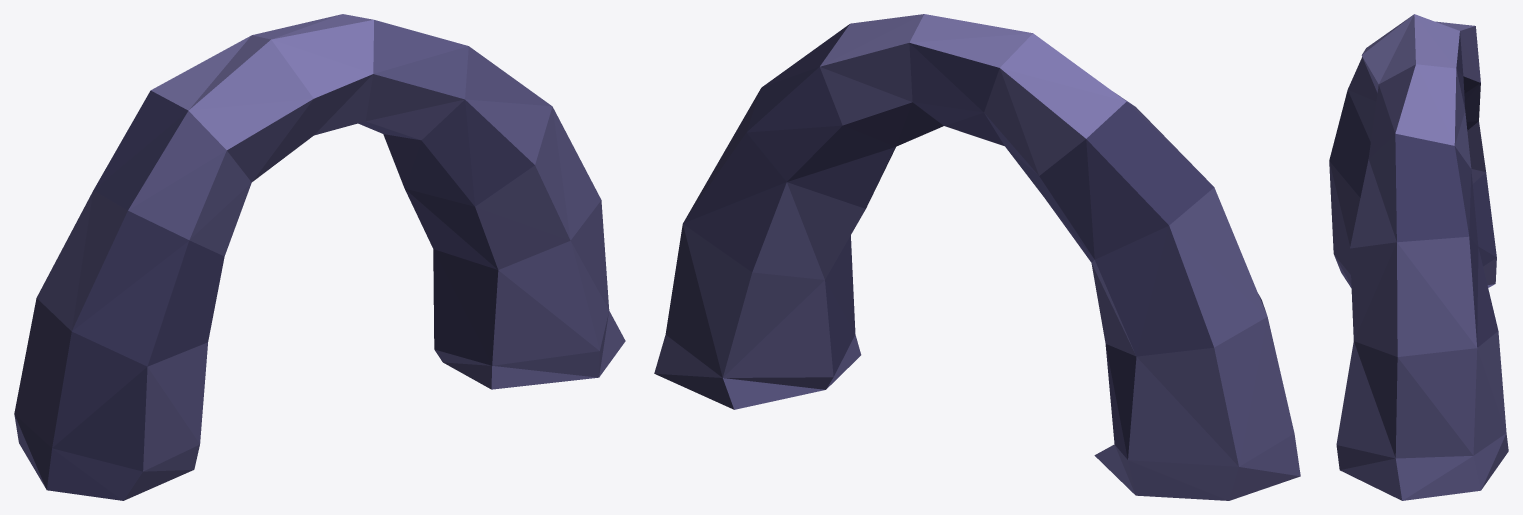
File: rock_arch_deep.fbx
3 views of the same model, side by side, from view 1: azimuth 30°, elevation 25°; view 2: azimuth 150°, elevation 25°; view 3: azimuth 270°, elevation 25° (orthographic). The views are drawn at different scales.
Parts seen in each view (by area): view 1: rock_arch_deep; view 2: rock_arch_deep; view 3: rock_arch_deep.
Boxes of the visible parts, x1,y1,x2,y2 form: rock_arch_deep: (14, 14, 625, 500); rock_arch_deep: (654, 14, 1300, 500); rock_arch_deep: (1329, 14, 1508, 500).
Bounding box in the file's own units: 3069 × 1918 × 918.
1 material, 1 textured.
